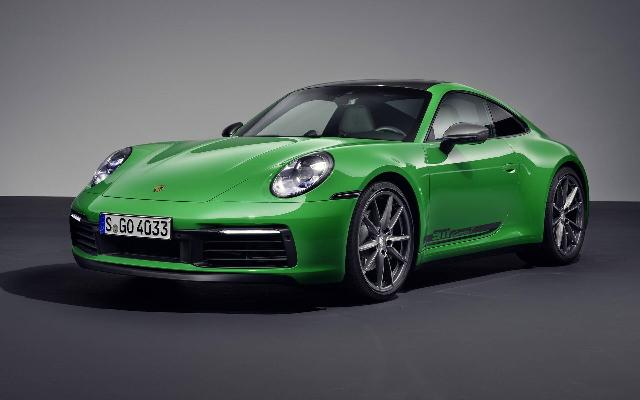porsche: (68, 78, 590, 300)
